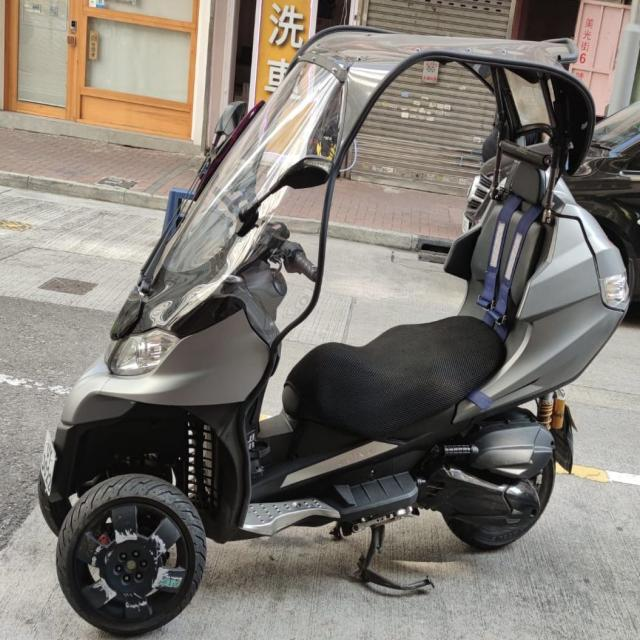Bike: (39, 27, 629, 634)
